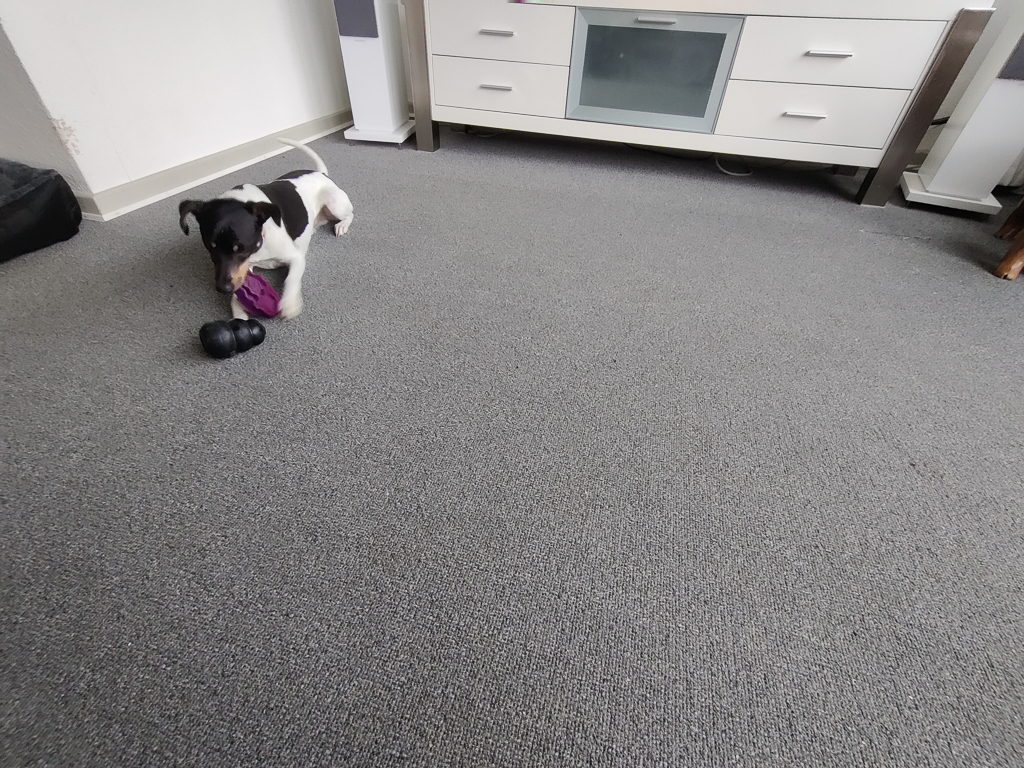Cattle: (974, 184, 1024, 298)
Dog: (160, 122, 381, 341)
